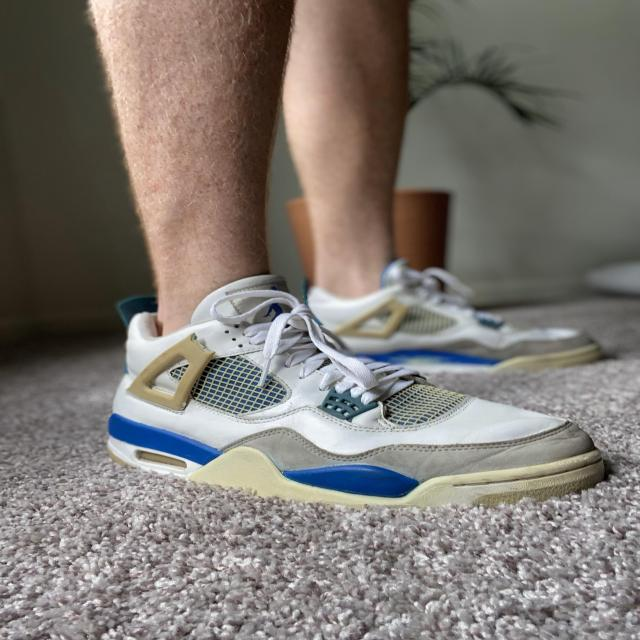shoe: (71, 267, 622, 521), (283, 252, 621, 381)
